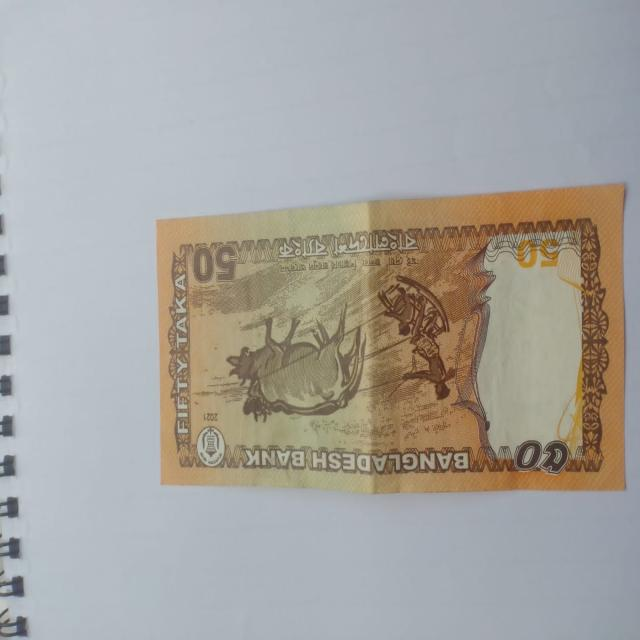Taka: (150, 192, 632, 496)
